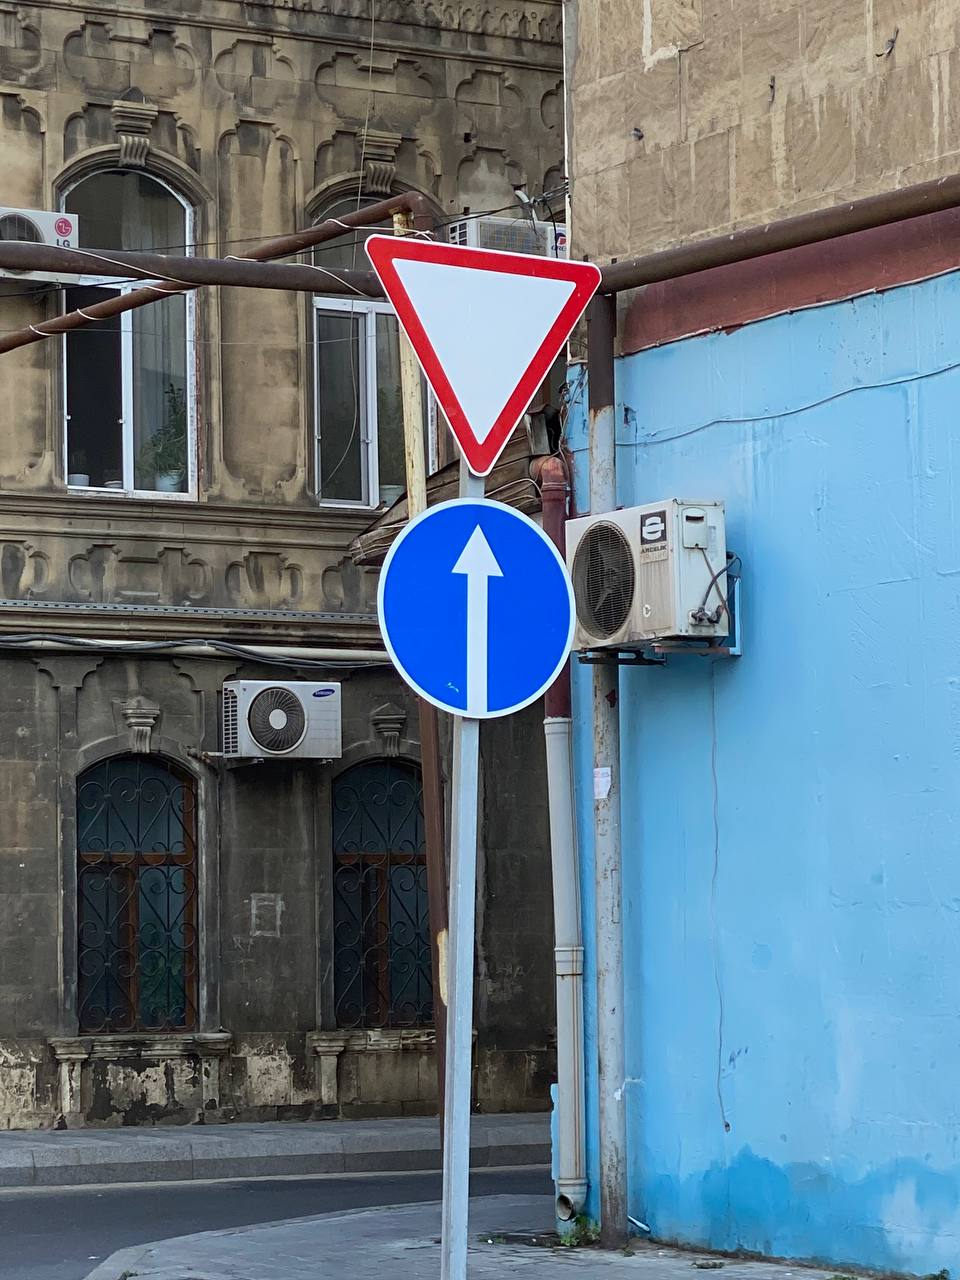AheadOnly: (376, 497, 577, 719)
Give Way: (365, 233, 601, 477)
